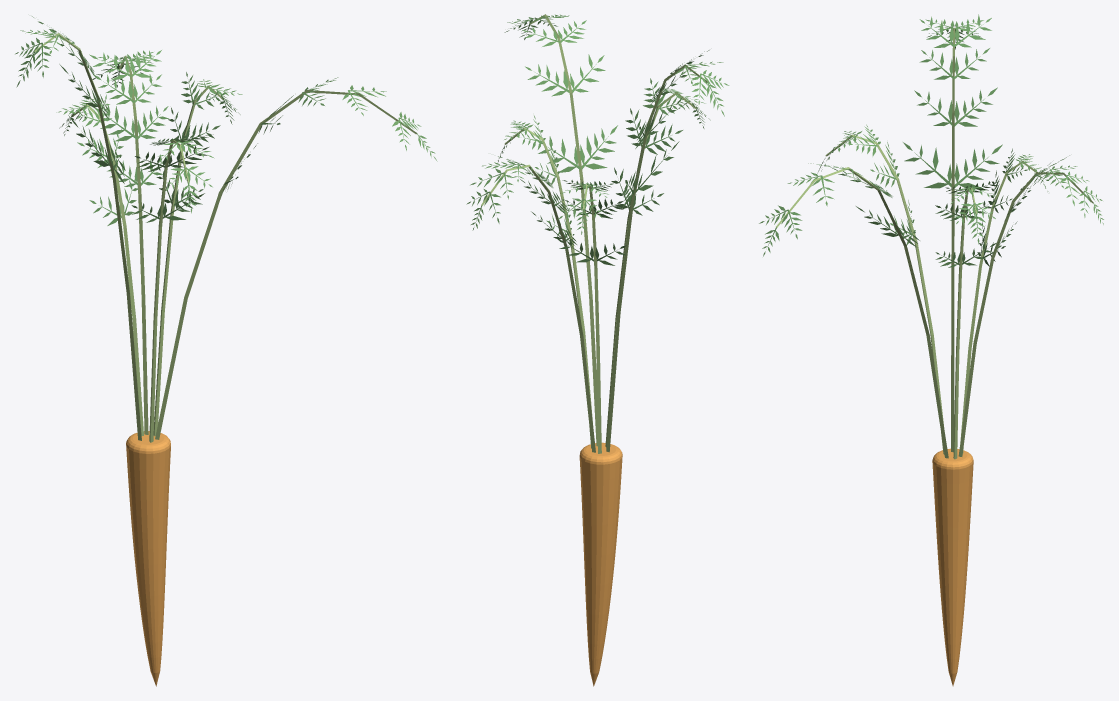
The model's file is carrot_harvest_v07.glb.
3 renders of one model, left to right at view 1: azimuth 30°, elevation 25°; view 2: azimuth 150°, elevation 25°; view 3: azimuth 270°, elevation 25°, orthographic. The views are drawn at different scales.
Parts seen in each view (by area): view 1: leaves, petioles, root; view 2: leaves, root, petioles; view 3: leaves, petioles, root.
Part boxes in pixels (x1,y1,x2,y2): leaves: [15, 16, 437, 225]; petioles: [34, 33, 417, 442]; root: [126, 431, 170, 686]; leaves: [466, 14, 729, 265]; root: [579, 442, 622, 686]; petioles: [481, 14, 707, 453]; leaves: [759, 14, 1103, 267]; petioles: [776, 27, 1093, 459]; root: [932, 448, 973, 686].
Bounding box in the file's own units: 0.2215 × 0.4553 × 0.2285.
